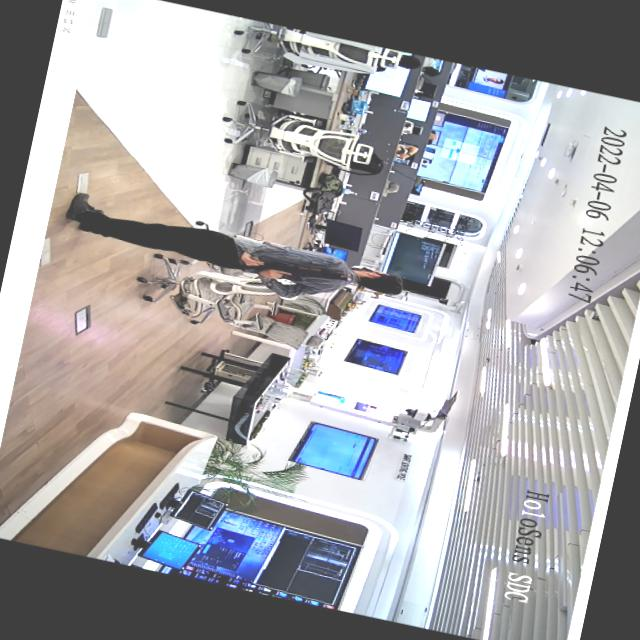long weapon: (226, 244, 364, 300)
